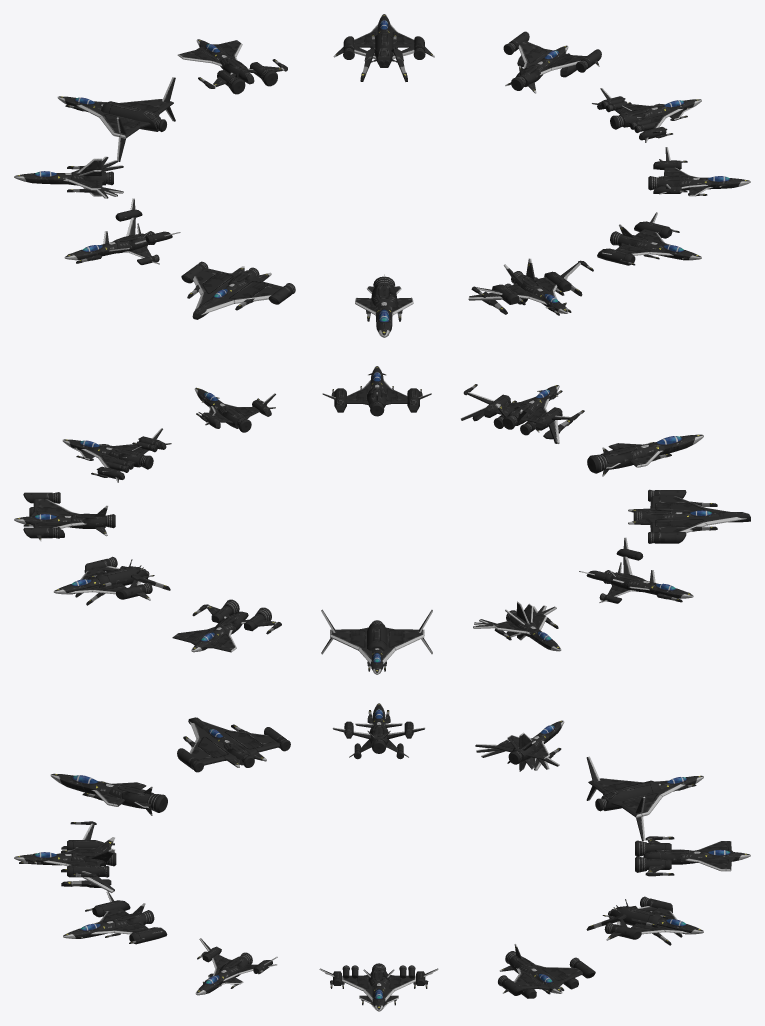
File: wheel_large.glb
3 views of the same model, one above another, from view 1: azimuth 30°, elevation 25°; view 2: azimuth 150°, elevation 25°; view 3: azimuth 270°, elevation 25° (orthographic).
Parts seen in each view (by area): view 1: StarSparrow11_Mesh.100, StarSparrow08_Mesh.071, StarSparrow01_Mesh.012, StarSparrow06_Mesh.048, StarSparrow05_Mesh.039, StarSparrow07_Mesh.059, StarSparrow02_Mesh.001, StarSparrow04_Mesh.030, StarSparrow10_Mesh.089, StarSparrow09_Mesh.076, StarSparrow03_Mesh.021, StarSparrow12_Mesh.107; view 2: StarSparrow11_Mesh.100, StarSparrow01_Mesh.012, StarSparrow05_Mesh.039, StarSparrow06_Mesh.048, StarSparrow08_Mesh.071, StarSparrow07_Mesh.059, StarSparrow04_Mesh.030, StarSparrow12_Mesh.107, StarSparrow10_Mesh.089, StarSparrow02_Mesh.001, StarSparrow09_Mesh.076, StarSparrow03_Mesh.021; view 3: StarSparrow11_Mesh.100, StarSparrow01_Mesh.012, StarSparrow08_Mesh.071, StarSparrow07_Mesh.059, StarSparrow06_Mesh.048, StarSparrow05_Mesh.039, StarSparrow02_Mesh.001, StarSparrow04_Mesh.030, StarSparrow12_Mesh.107, StarSparrow09_Mesh.076, StarSparrow10_Mesh.089, StarSparrow03_Mesh.021.
Boxes of the visible parts, bbox=[...] form: StarSparrow11_Mesh.100: bbox=[181, 261, 295, 319]; StarSparrow08_Mesh.071: bbox=[57, 77, 175, 161]; StarSparrow01_Mesh.012: bbox=[468, 258, 593, 315]; StarSparrow06_Mesh.048: bbox=[333, 14, 434, 81]; StarSparrow05_Mesh.039: bbox=[503, 31, 601, 93]; StarSparrow07_Mesh.059: bbox=[177, 39, 287, 94]; StarSparrow02_Mesh.001: bbox=[597, 212, 701, 265]; StarSparrow04_Mesh.030: bbox=[592, 88, 701, 142]; StarSparrow10_Mesh.089: bbox=[64, 198, 180, 264]; StarSparrow09_Mesh.076: bbox=[14, 156, 123, 198]; StarSparrow03_Mesh.021: bbox=[648, 147, 750, 196]; StarSparrow12_Mesh.107: bbox=[355, 274, 413, 337]; StarSparrow11_Mesh.100: bbox=[628, 489, 750, 543]; StarSparrow01_Mesh.012: bbox=[460, 384, 584, 443]; StarSparrow05_Mesh.039: bbox=[14, 492, 115, 540]; StarSparrow06_Mesh.048: bbox=[53, 556, 170, 605]; StarSparrow08_Mesh.071: bbox=[321, 609, 432, 674]; StarSparrow07_Mesh.059: bbox=[172, 599, 281, 652]; StarSparrow04_Mesh.030: bbox=[62, 428, 171, 482]; StarSparrow12_Mesh.107: bbox=[587, 434, 703, 476]; StarSparrow10_Mesh.089: bbox=[579, 537, 693, 603]; StarSparrow02_Mesh.001: bbox=[322, 366, 431, 416]; StarSparrow09_Mesh.076: bbox=[473, 601, 561, 651]; StarSparrow03_Mesh.021: bbox=[194, 387, 275, 432]; StarSparrow11_Mesh.100: bbox=[177, 717, 290, 772]; StarSparrow01_Mesh.012: bbox=[14, 821, 116, 892]; StarSparrow08_Mesh.071: bbox=[586, 756, 703, 841]; StarSparrow07_Mesh.059: bbox=[635, 836, 750, 876]; StarSparrow06_Mesh.048: bbox=[586, 896, 703, 945]; StarSparrow05_Mesh.039: bbox=[498, 944, 595, 998]; StarSparrow02_Mesh.001: bbox=[63, 891, 167, 944]; StarSparrow04_Mesh.030: bbox=[319, 963, 438, 1011]; StarSparrow12_Mesh.107: bbox=[50, 773, 167, 815]; StarSparrow09_Mesh.076: bbox=[475, 720, 564, 771]; StarSparrow10_Mesh.089: bbox=[332, 703, 425, 759]; StarSparrow03_Mesh.021: bbox=[195, 938, 277, 995].
Size of the model in its own units: 117 by 7.72 by 117.
Materials: 1 (1 with a texture image).
